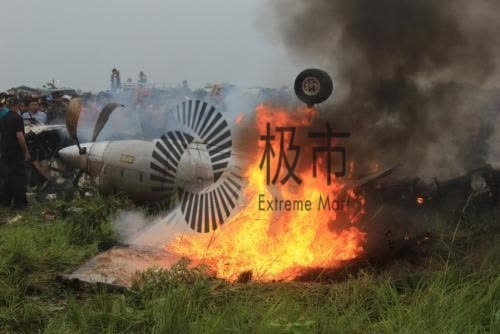fire: (170, 97, 371, 285)
